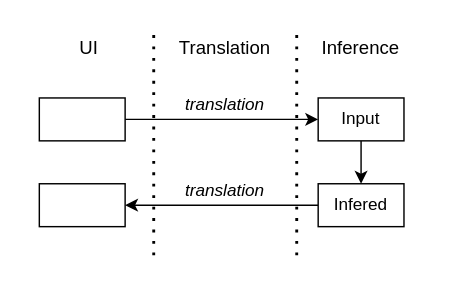
Some shapes in this 449 by 282 pixel diagram are drawn without their labels. Each missing label, with the box of its shape:
Typed: (38, 182, 125, 227)
Untyped: (38, 97, 125, 141)
